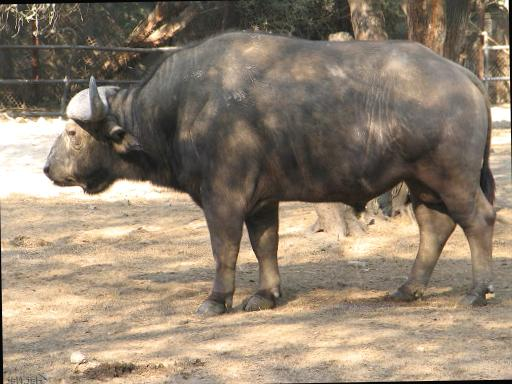Buffalo: (0, 44, 494, 296)
